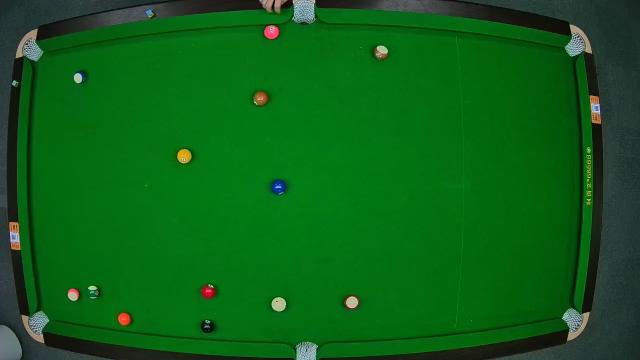bag1: (21, 40, 44, 63)
bag2: (290, 2, 318, 26)
bag3: (565, 34, 587, 57)
bag4: (28, 308, 48, 334)
bag5: (294, 338, 320, 360)
bag6: (562, 308, 584, 332)
ball0: (271, 296, 287, 312)
ball1: (178, 148, 192, 164)
ball10: (72, 70, 88, 84)
ball11: (344, 294, 360, 310)
ball12: (66, 288, 80, 302)
ball14: (86, 285, 100, 299)
ball15: (374, 45, 388, 61)
ball2: (271, 180, 287, 197)
ball3: (200, 284, 216, 298)
ball4: (264, 24, 280, 40)
ball5: (118, 312, 130, 326)
ball7: (252, 90, 268, 105)
ball8: (201, 318, 215, 334)
